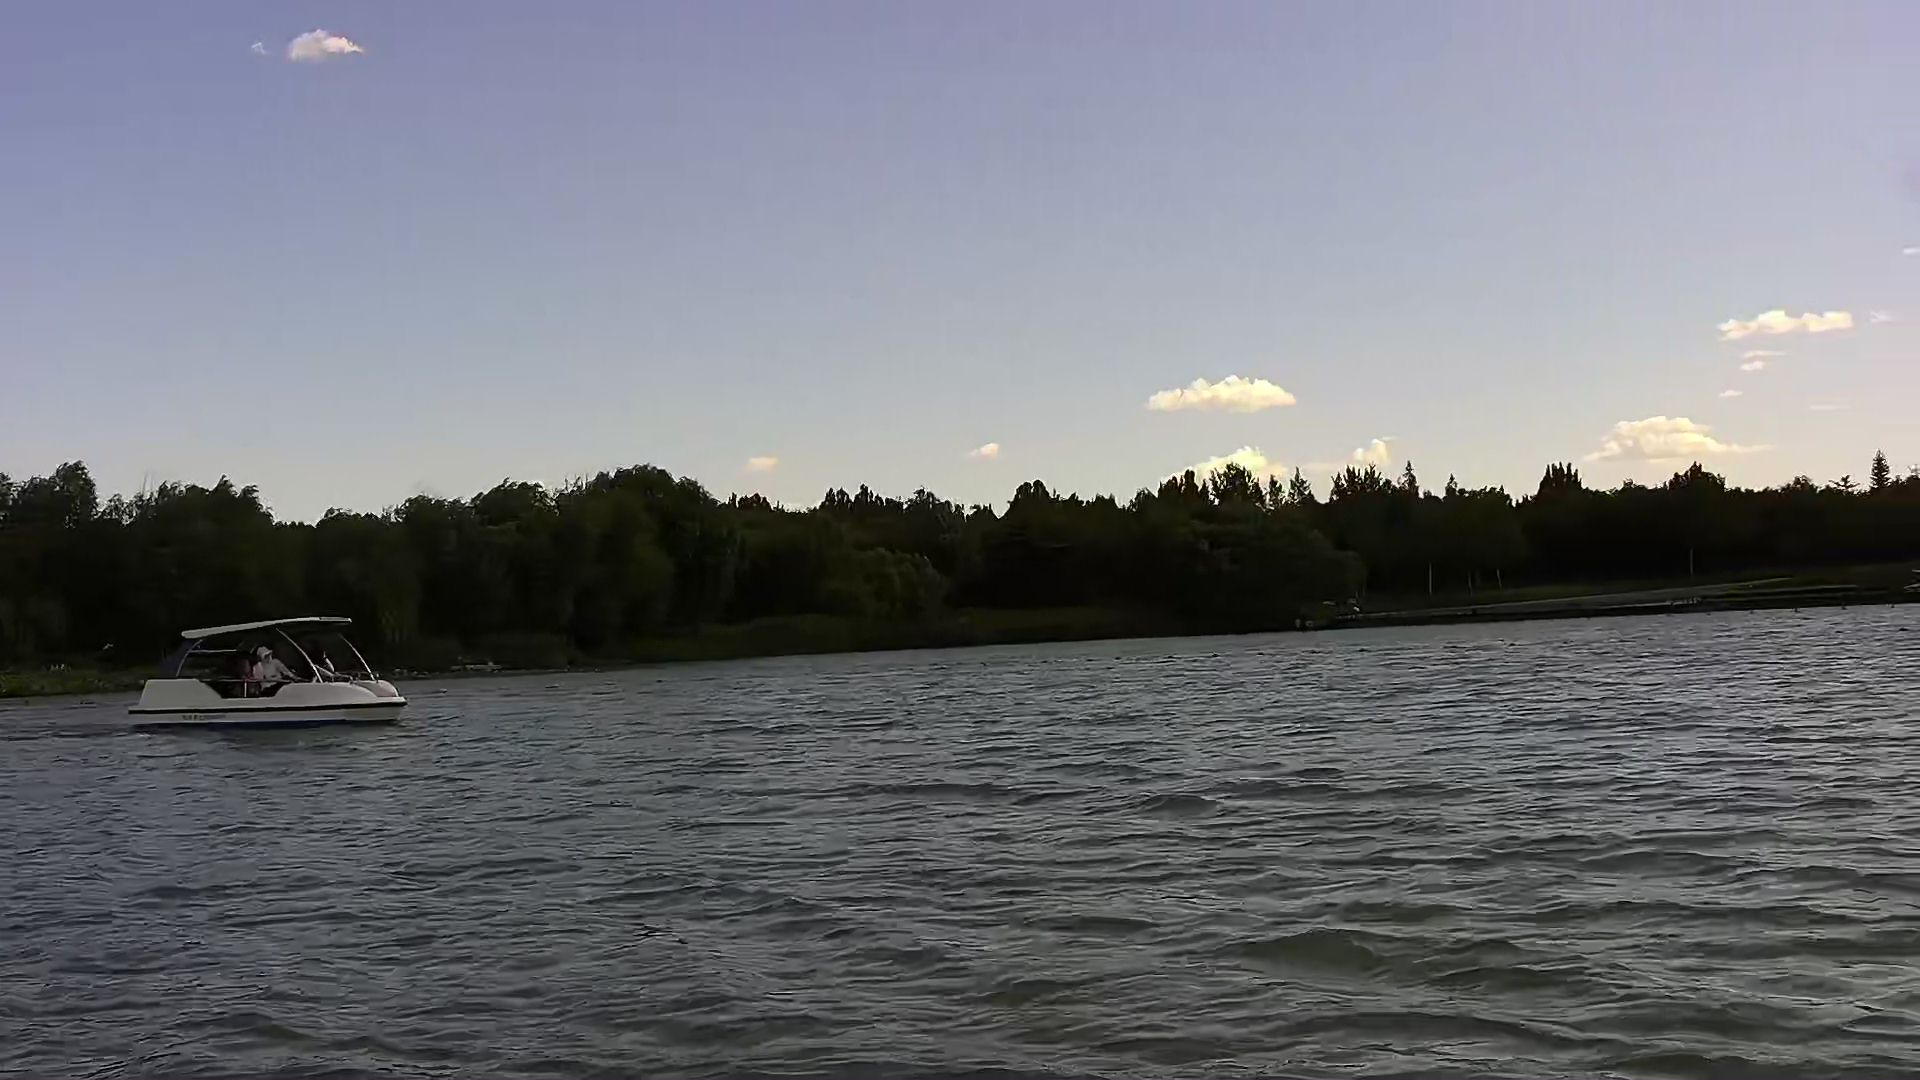boat: (126, 607, 405, 732)
harbor: (1349, 548, 1920, 617)
person: (245, 645, 300, 699)
